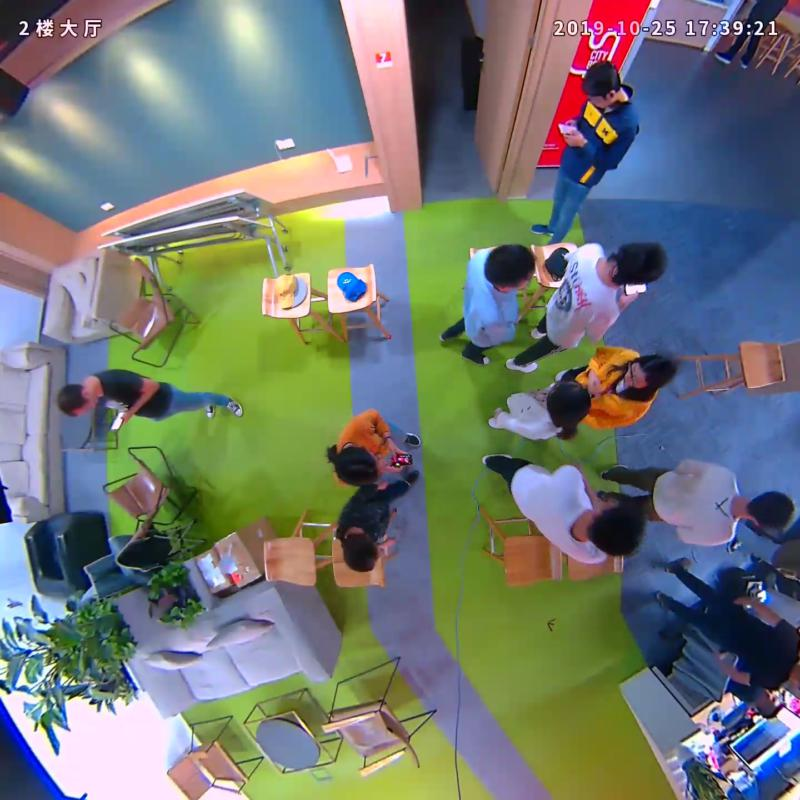head: (586, 500, 645, 556), (484, 243, 536, 292), (622, 352, 677, 394), (616, 242, 668, 283), (546, 379, 591, 425), (582, 60, 622, 109), (747, 491, 795, 531), (333, 445, 381, 485), (341, 531, 380, 571), (56, 383, 98, 416)
